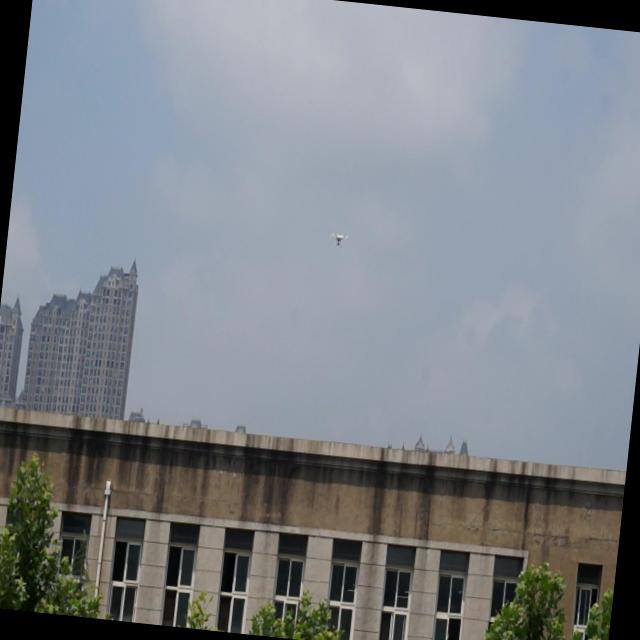drone: (328, 228, 349, 252)
